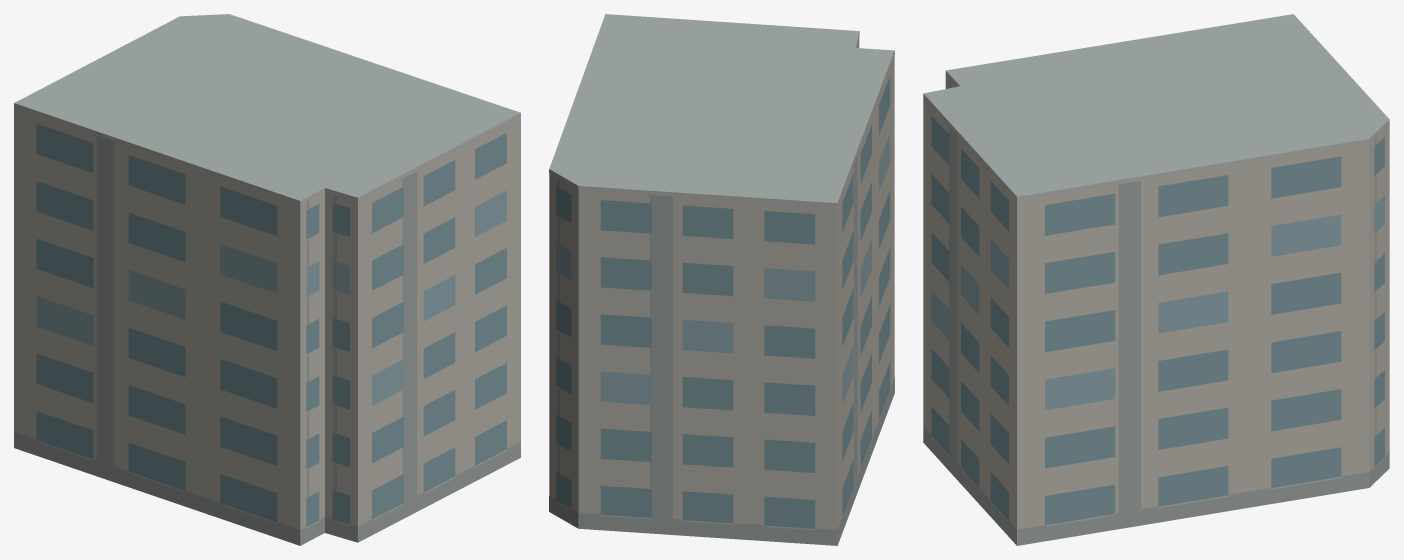
Rendered from survey-upis-32840832.glb.
3 views of the same model, side by side, from view 1: azimuth 30°, elevation 25°; view 2: azimuth 150°, elevation 25°; view 3: azimuth 270°, elevation 25° (orthographic).
Parts seen in each view (by area): view 1: survey-upis-32840832.tmp; view 2: survey-upis-32840832.tmp; view 3: survey-upis-32840832.tmp.
Part boxes in pixels (x1,y1,x2,y2): survey-upis-32840832.tmp: (14,14,520,545); survey-upis-32840832.tmp: (549,14,894,545); survey-upis-32840832.tmp: (923,14,1389,545).
Bounding box in the file's own units: 21.91 × 19.5 × 23.61.
